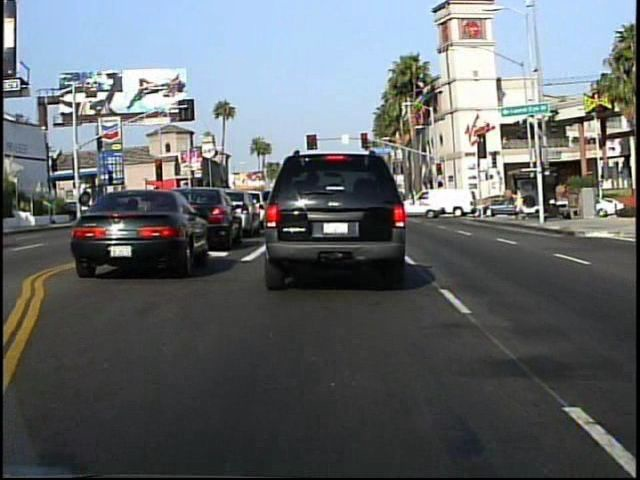person: (510, 183, 528, 225)
